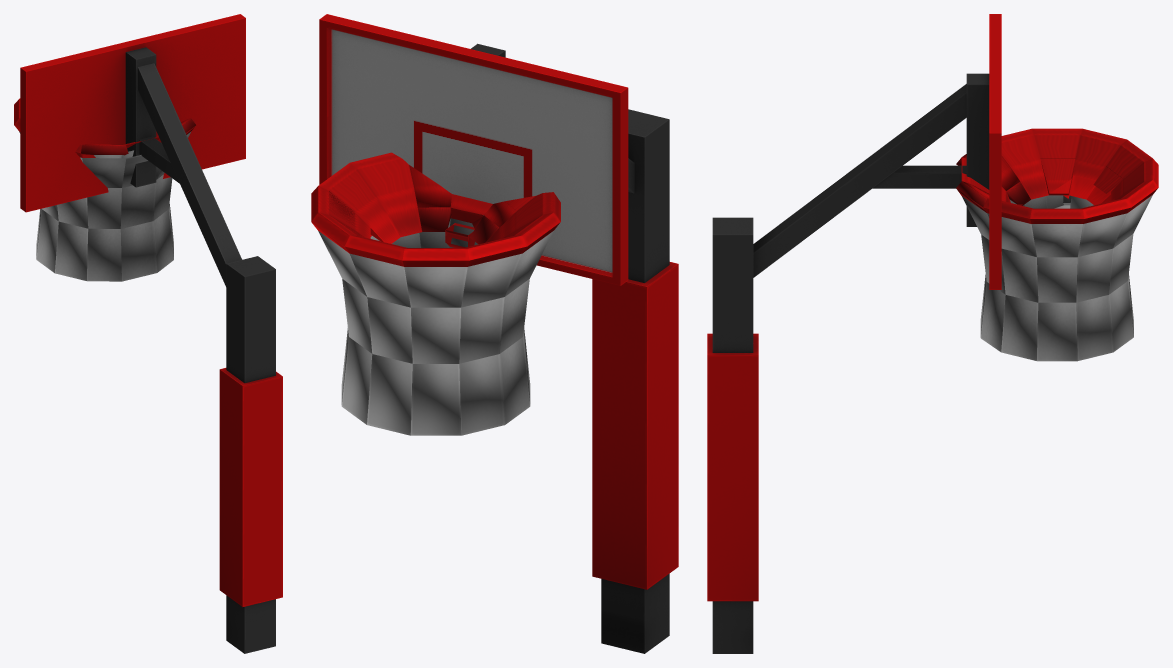
The model's file is hoop.fbx.
The picture shows the model from 3 angles, left to right: view 1: azimuth 30°, elevation 25°; view 2: azimuth 150°, elevation 25°; view 3: azimuth 270°, elevation 25°; orthographic projection. The views are drawn at different scales.
Visible parts, largest first — view 1: BasketBallCourt_Mesh; view 2: BasketBallCourt_Mesh; view 3: BasketBallCourt_Mesh.
Part boxes in pixels (x1=…): BasketBallCourt_Mesh: x1=14, y1=14, x2=282, y2=653; BasketBallCourt_Mesh: x1=311, y1=14, x2=678, y2=653; BasketBallCourt_Mesh: x1=707, y1=14, x2=1158, y2=653.
Bounding box in the file's own units: 180 × 402 × 287.
1 material, 1 textured.
